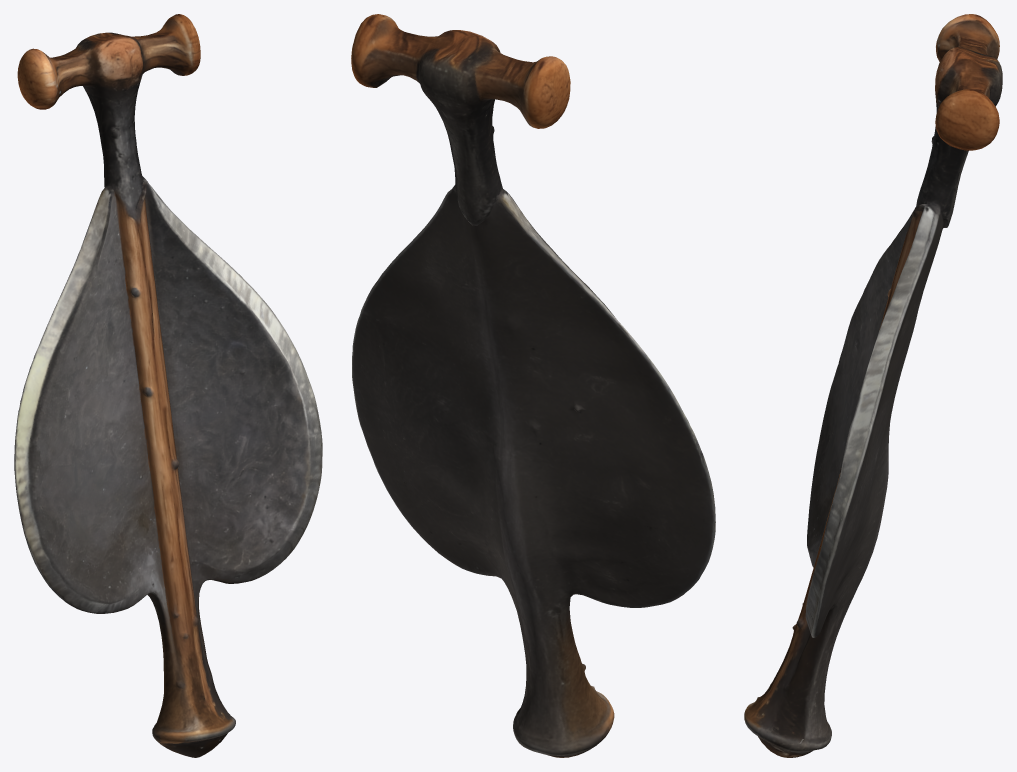
The model's file is tool_iron_shovel.glb.
The picture shows the model from 3 angles, left to right: view 1: azimuth 30°, elevation 25°; view 2: azimuth 150°, elevation 25°; view 3: azimuth 270°, elevation 25°; orthographic projection. The views are drawn at different scales.
Parts seen in each view (by area): view 1: MESH; view 2: MESH; view 3: MESH.
Part boxes in pixels (<box>): MESH: <box>14,14,322,757</box>; MESH: <box>351,14,715,757</box>; MESH: <box>744,14,1002,757</box>.
Bounding box in the file's own units: 0.2857 × 0.6 × 0.1997.
Materials: 1 (1 with a texture image).
